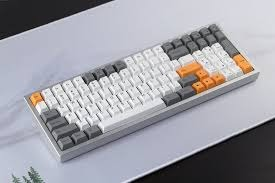keyboard: (21, 21, 256, 161)
